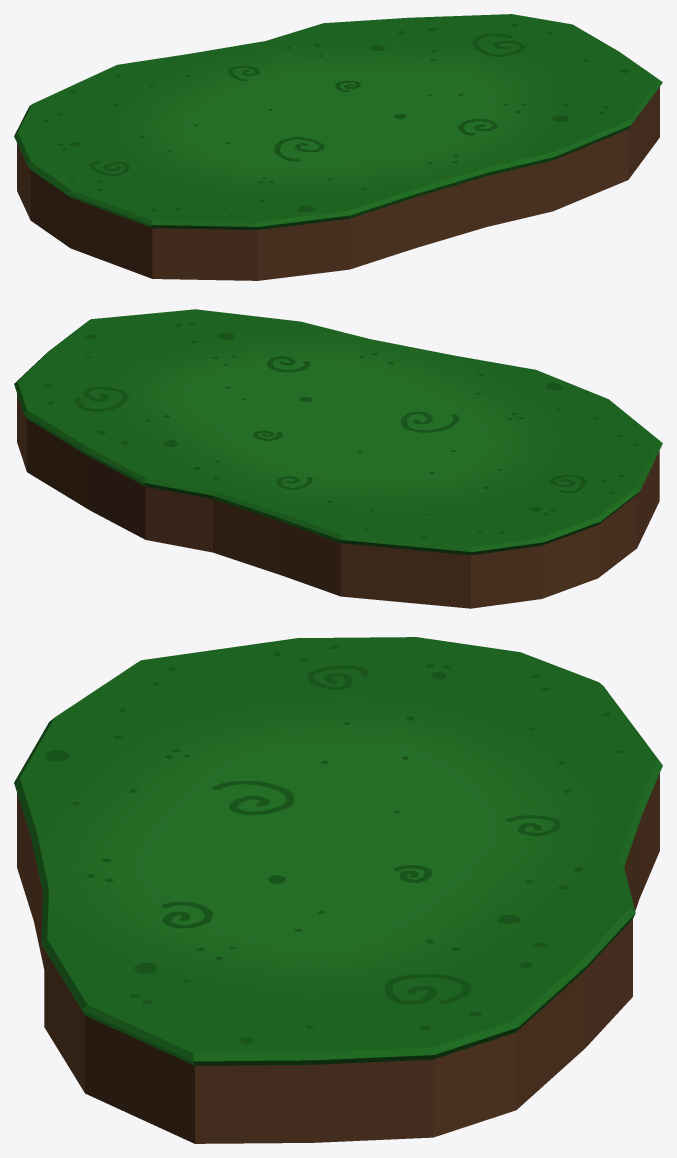
File: BigPlatform.fbx
3 views of the same model, one above another, from view 1: azimuth 30°, elevation 25°; view 2: azimuth 150°, elevation 25°; view 3: azimuth 270°, elevation 25° (orthographic). The views are drawn at different scales.
Visible parts, largest first — view 1: GrassBig; view 2: GrassBig; view 3: GrassBig.
Boxes of the visible parts, left/top/right/bottom form: GrassBig: left=14, top=14, right=662, bottom=280; GrassBig: left=14, top=309, right=662, bottom=608; GrassBig: left=14, top=637, right=662, bottom=1143.
Size of the model in its own units: 2108 by 209 by 1371.
Materials: 1 (1 with a texture image).
